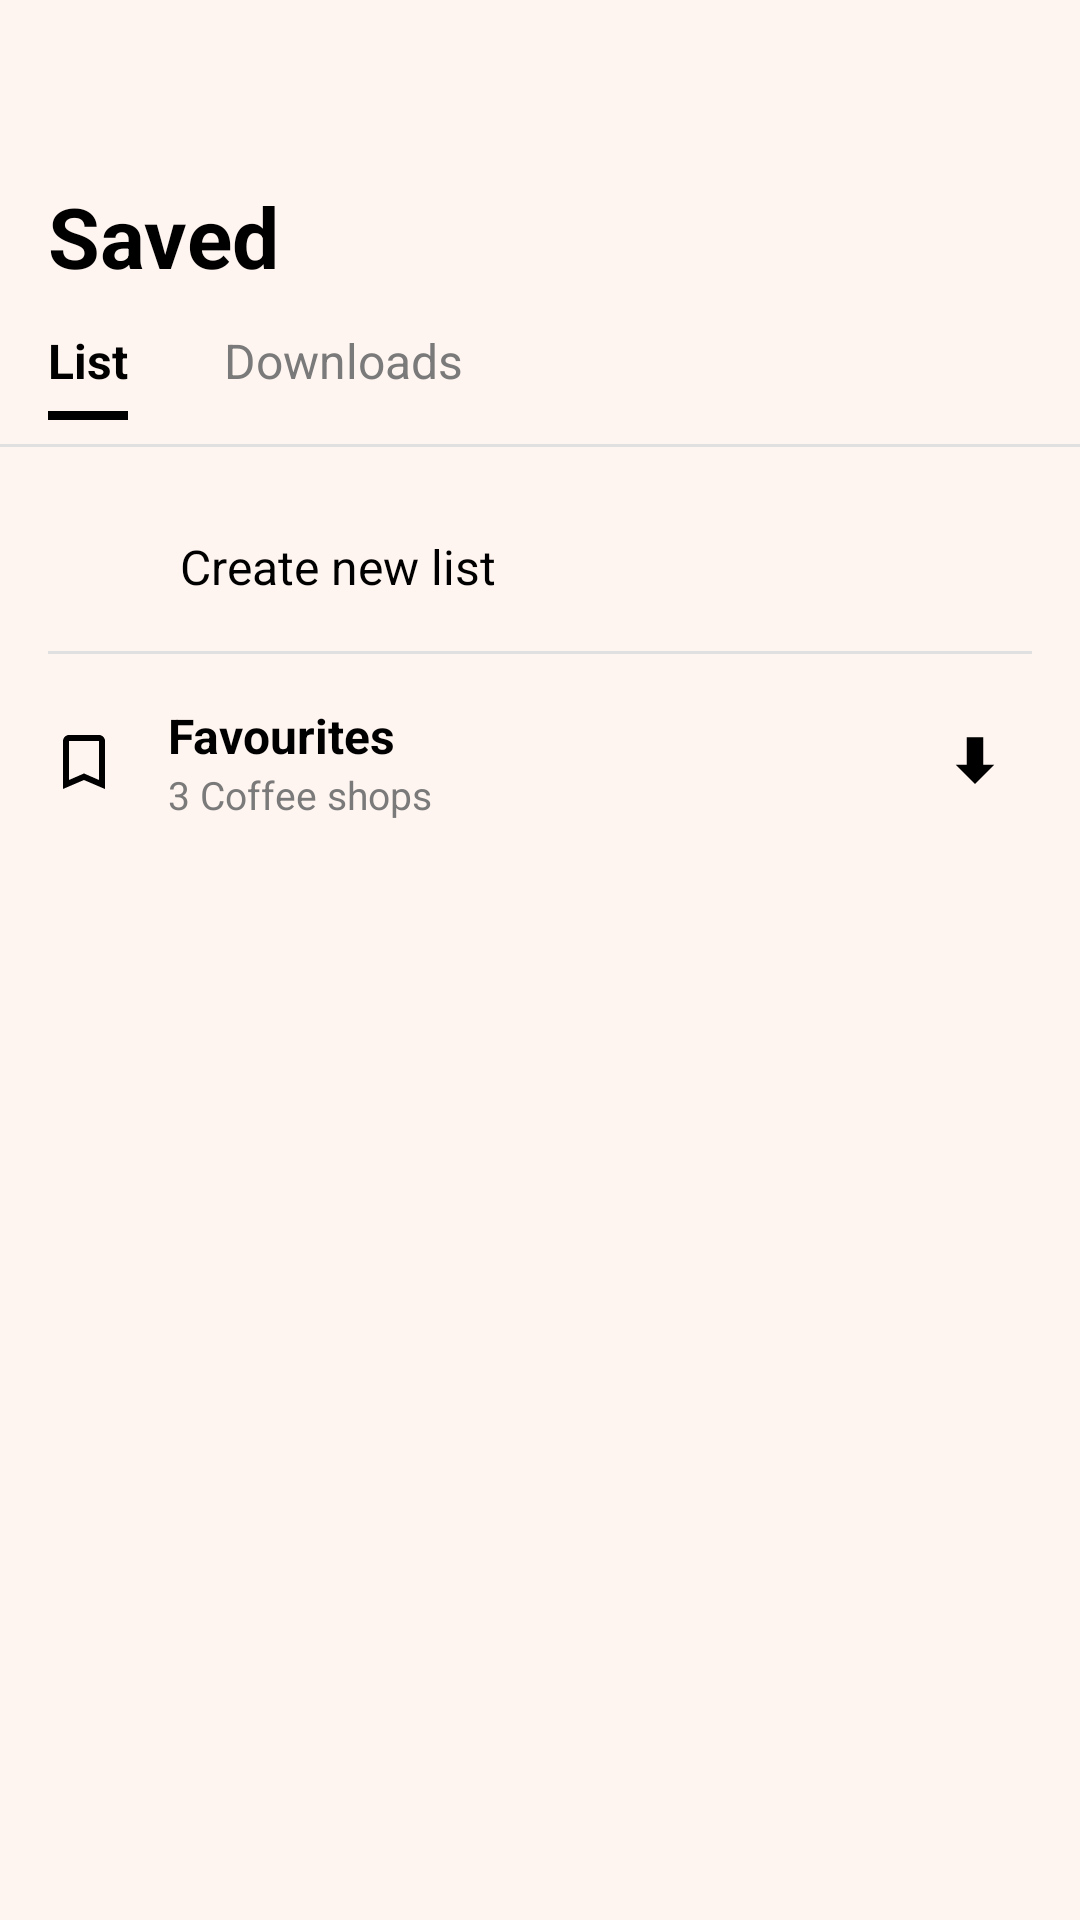

Where to tap for icons on this 1080w x 1920h app screen, as (x,y):
bookmark border: (84,762)
download: (975,760)
